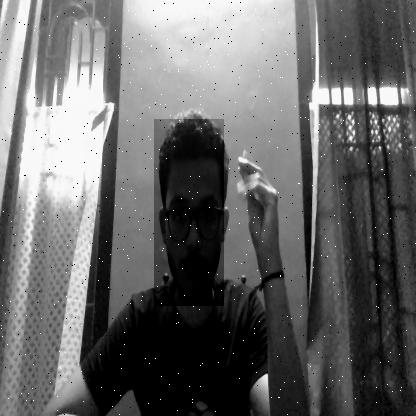Normal: (154, 119, 224, 306)
